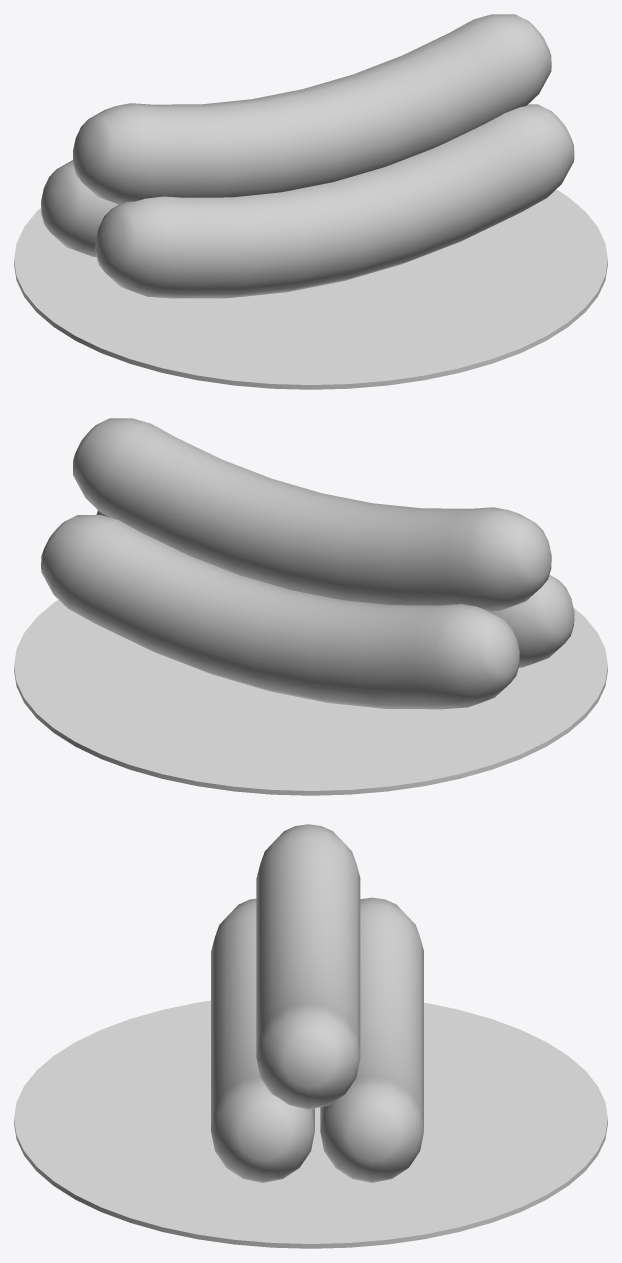
File: 1_1_sausage.fbx
3 renders of one model, top to bottom at view 1: azimuth 30°, elevation 25°; view 2: azimuth 150°, elevation 25°; view 3: azimuth 270°, elevation 25°, orthographic.
Visible parts, largest first — view 1: Circle.029, sausgae, sausgae.004, sausgae.003; view 2: Circle.029, sausgae.003, sausgae.004, sausgae; view 3: Circle.029, sausgae.004, sausgae.003, sausgae.
Part boxes in pixels (left/top/right/bottom): Circle.029: left=14, top=189, right=607, bottom=389; sausgae: left=95, top=104, right=574, bottom=298; sausgae.004: left=73, top=14, right=551, bottom=204; sausgae.003: left=41, top=160, right=118, bottom=256; Circle.029: left=14, top=599, right=607, bottom=795; sausgae.003: left=41, top=515, right=519, bottom=709; sausgae.004: left=73, top=418, right=551, bottom=611; sausgae: left=96, top=510, right=574, bottom=667; Circle.029: left=14, top=1000, right=607, bottom=1248; sausgae.004: left=256, top=824, right=360, bottom=1109; sausgae.003: left=320, top=897, right=423, bottom=1182; sausgae: left=211, top=898, right=314, bottom=1182.
Size of the model in its own units: 5.06 by 1.89 by 5.06.
